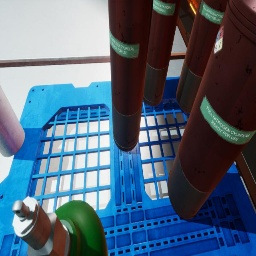0: (12, 196, 109, 256), (0, 85, 25, 157)
NitrogenTank ,: (167, 0, 256, 219), (108, 0, 153, 152), (176, 0, 228, 113), (143, 0, 181, 106)
